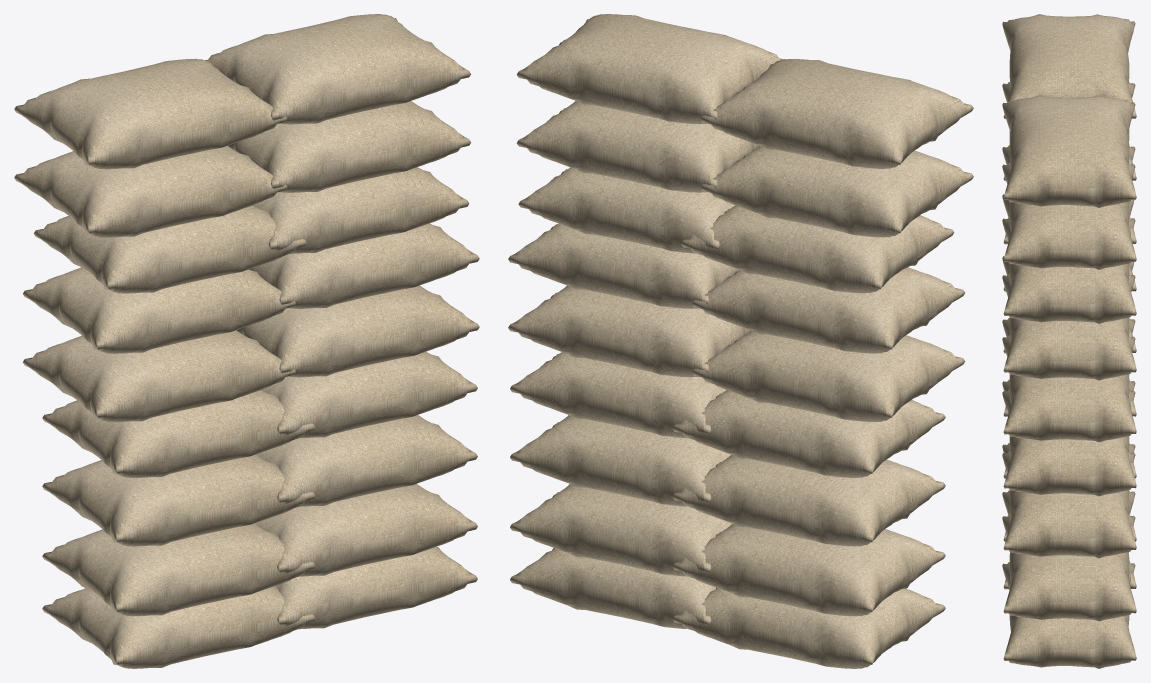
The model's file is bag1.obj.
3 renders of one model, left to right at view 1: azimuth 30°, elevation 25°; view 2: azimuth 150°, elevation 25°; view 3: azimuth 270°, elevation 25°, orthographic. The views are drawn at different scales.
Visible parts, largest first — view 1: Plane.001; view 2: Plane.001; view 3: Plane.001.
Boxes of the visible parts, <box> form: Plane.001: <box>14,14,479,668</box>; Plane.001: <box>508,14,973,668</box>; Plane.001: <box>1002,14,1136,668</box>.
Size of the model in its own units: 5.48 by 7.67 by 1.8.
